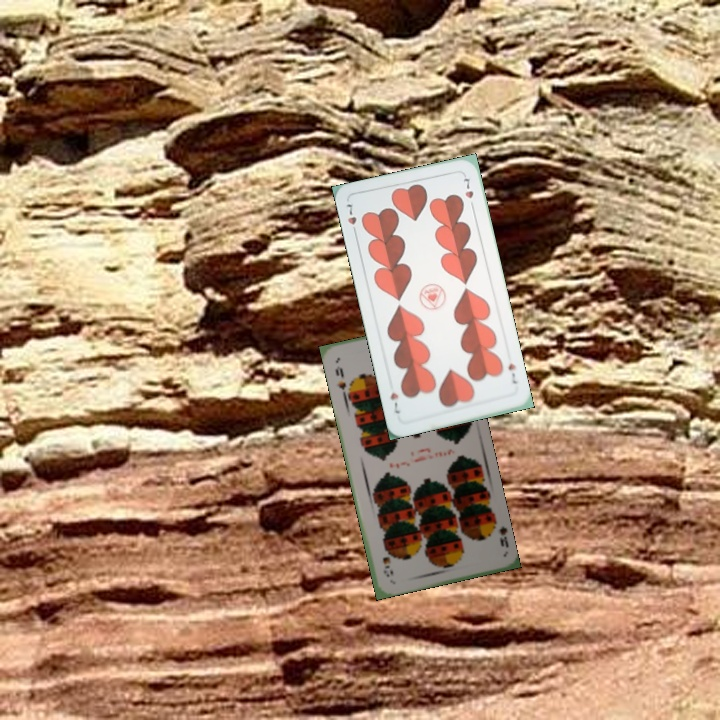H7: (342, 199, 360, 238), (504, 360, 520, 386)
S9: (486, 515, 511, 550), (331, 362, 349, 398)
